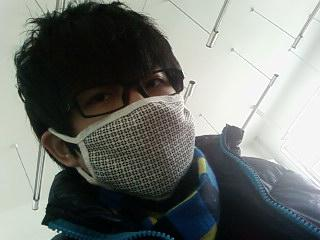OK: (61, 58, 197, 194)
